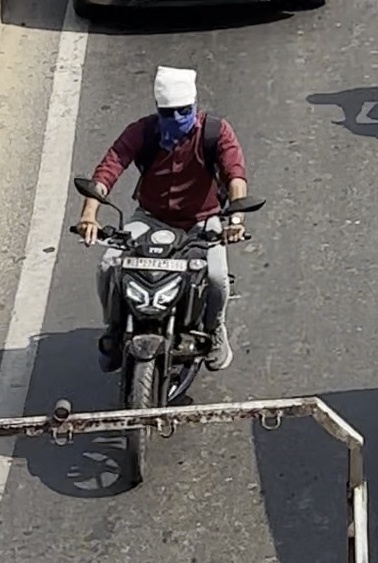BikeWithRider: (49, 58, 272, 489)
NoHelmet: (140, 60, 211, 136)
